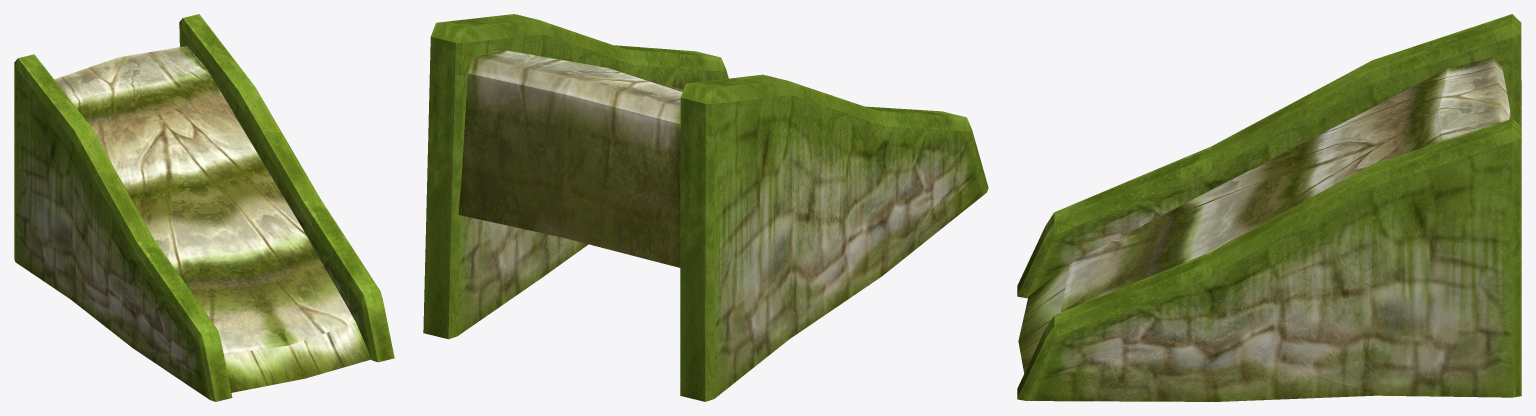
The model's file is stairs collider.FBX.
The picture shows the model from 3 angles, left to right: view 1: azimuth 30°, elevation 25°; view 2: azimuth 150°, elevation 25°; view 3: azimuth 270°, elevation 25°; orthographic projection. The views are drawn at different scales.
Parts seen in each view (by area): view 1: stairs collider; view 2: stairs collider; view 3: stairs collider.
Boxes of the visible parts, x1,y1,x2,y2 form: stairs collider: (14, 14, 394, 401); stairs collider: (423, 14, 988, 401); stairs collider: (1017, 14, 1521, 401).
Bounding box in the file's own units: 5.42 × 5.6 × 9.55.
